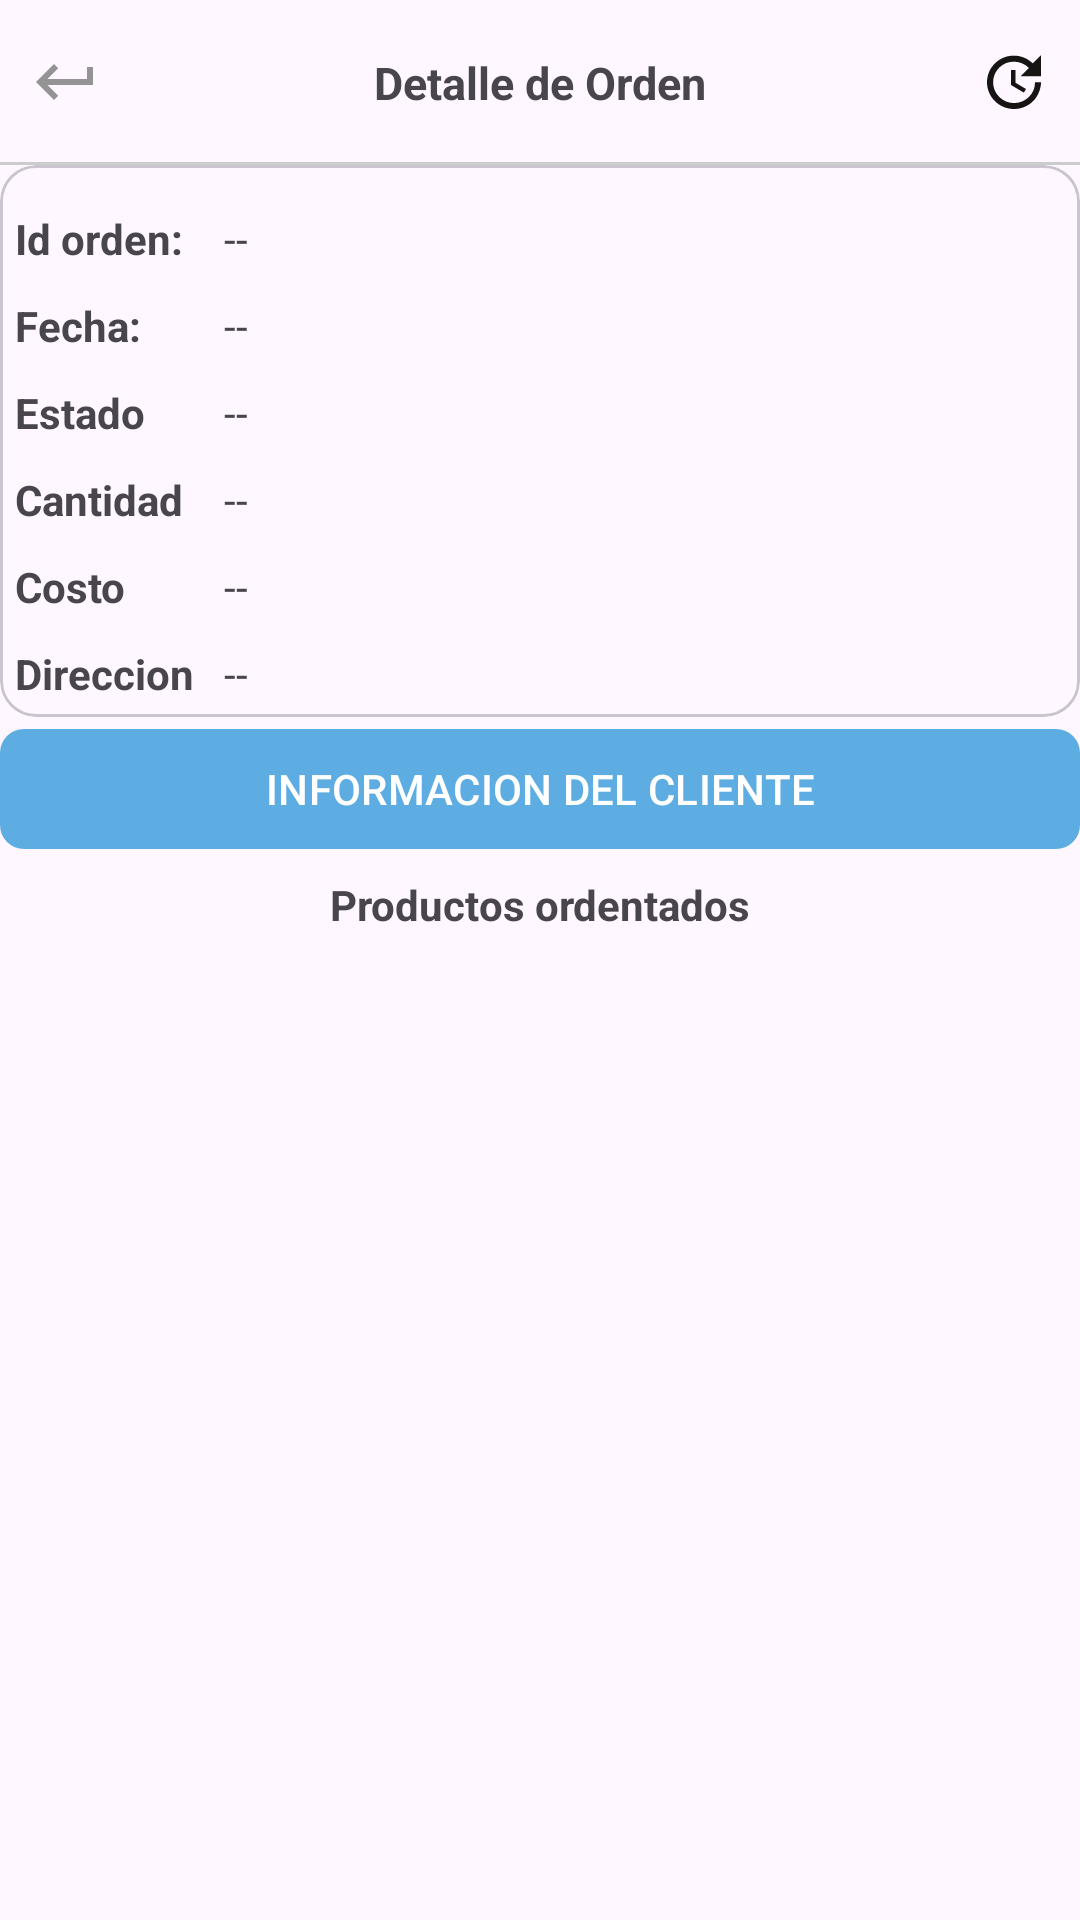

Point at icon controls on the screen. Image size 1080×1920, points as (x,y).
regresar: (64,82)
update: (1014,82)
